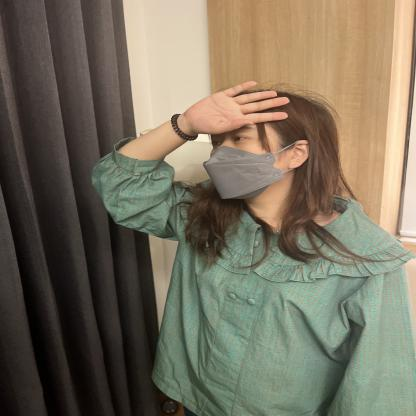Sick: (82, 56, 379, 183)
